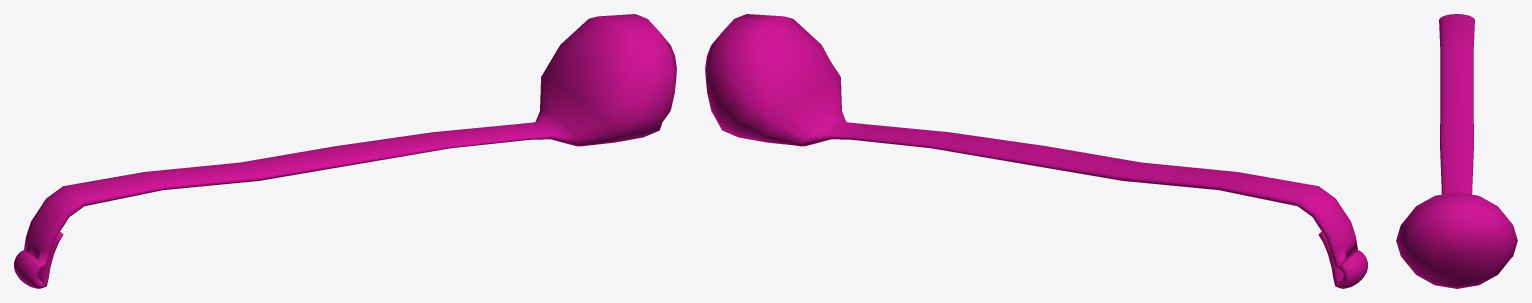
The model's file is ladle.dae.
The picture shows the model from 3 angles, left to right: view 1: azimuth 30°, elevation 25°; view 2: azimuth 150°, elevation 25°; view 3: azimuth 270°, elevation 25°; orthographic projection. The views are drawn at different scales.
Parts seen in each view (by area): view 1: geometry_0; view 2: geometry_0; view 3: geometry_0.
Part boxes in pixels (x1=…): geometry_0: x1=14, y1=14, x2=676, y2=288; geometry_0: x1=705, y1=14, x2=1367, y2=288; geometry_0: x1=1396, y1=14, x2=1517, y2=288.
Size of the model in its own units: 0.2017 by 0.042 by 0.0363.
